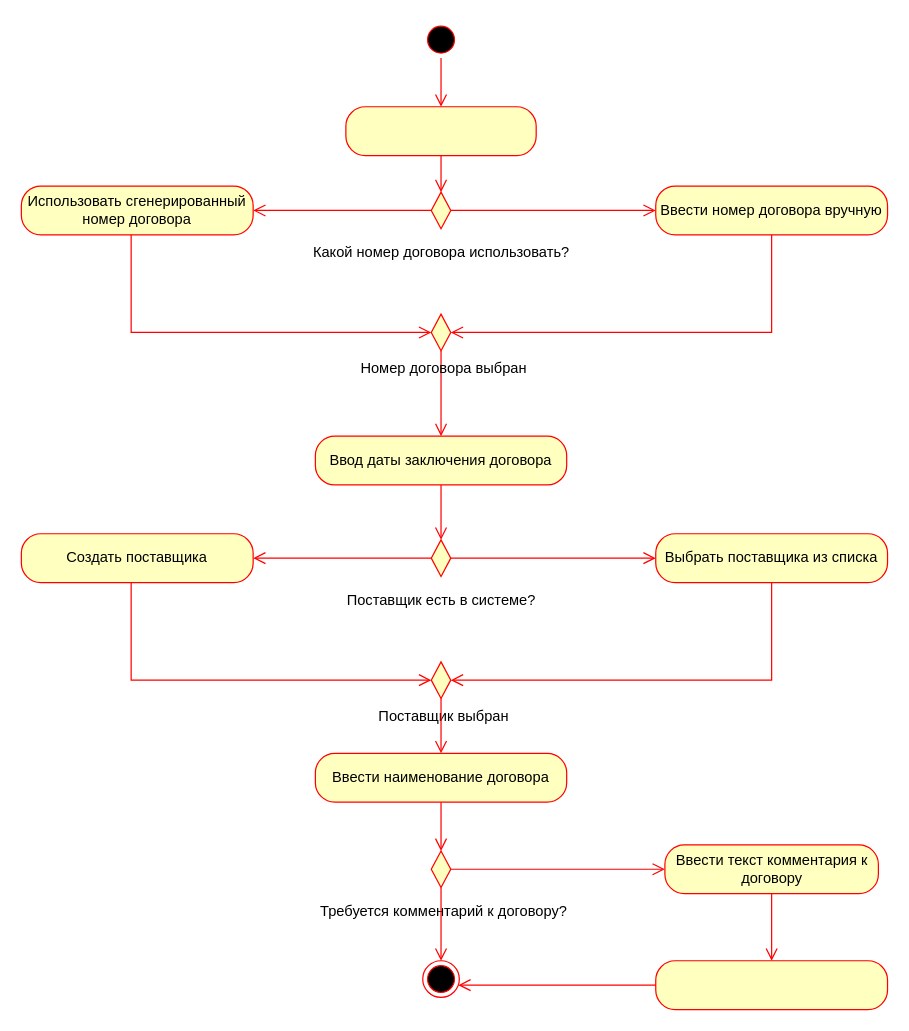
Image size: 909x1031. Some labels were removed from this diagram. The box of each missing label's shape, as (x1, y1, x2, y2) in pixels:
Открыть форму создания договора: (345, 106, 536, 156)
Сохранить созданный договор: (655, 960, 888, 1010)
